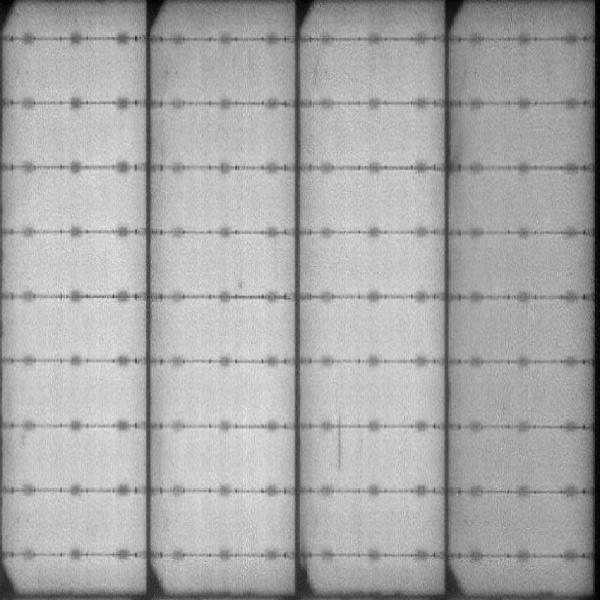scratch: (335, 416, 344, 470)
